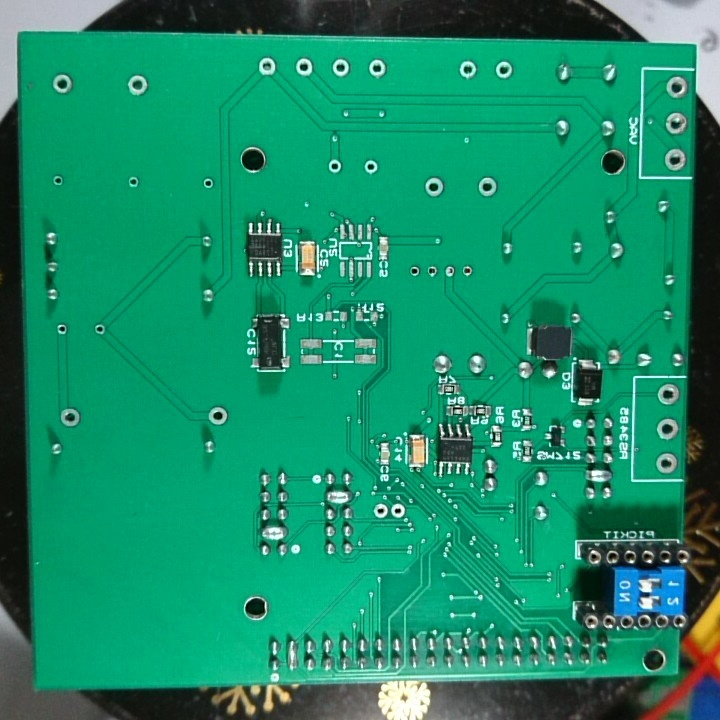F: (653, 416, 680, 446), (56, 406, 87, 432), (664, 109, 690, 140), (661, 146, 690, 173), (654, 382, 683, 408), (124, 72, 152, 98), (50, 71, 76, 98), (205, 404, 233, 429), (293, 54, 319, 80), (329, 55, 355, 81), (664, 75, 689, 101), (365, 55, 389, 82), (493, 58, 516, 86), (456, 57, 480, 83), (653, 451, 679, 475), (257, 54, 279, 80), (476, 173, 496, 199), (370, 500, 390, 525), (421, 176, 442, 198), (390, 502, 408, 522), (362, 158, 379, 178), (441, 262, 459, 280), (327, 158, 344, 176), (92, 322, 110, 339), (54, 320, 70, 339), (461, 261, 476, 280), (50, 172, 66, 189), (202, 174, 216, 193), (407, 264, 422, 281), (127, 174, 141, 192), (425, 263, 438, 282)
P: (257, 522, 291, 542), (581, 466, 615, 486), (283, 635, 299, 676), (323, 489, 355, 507)
